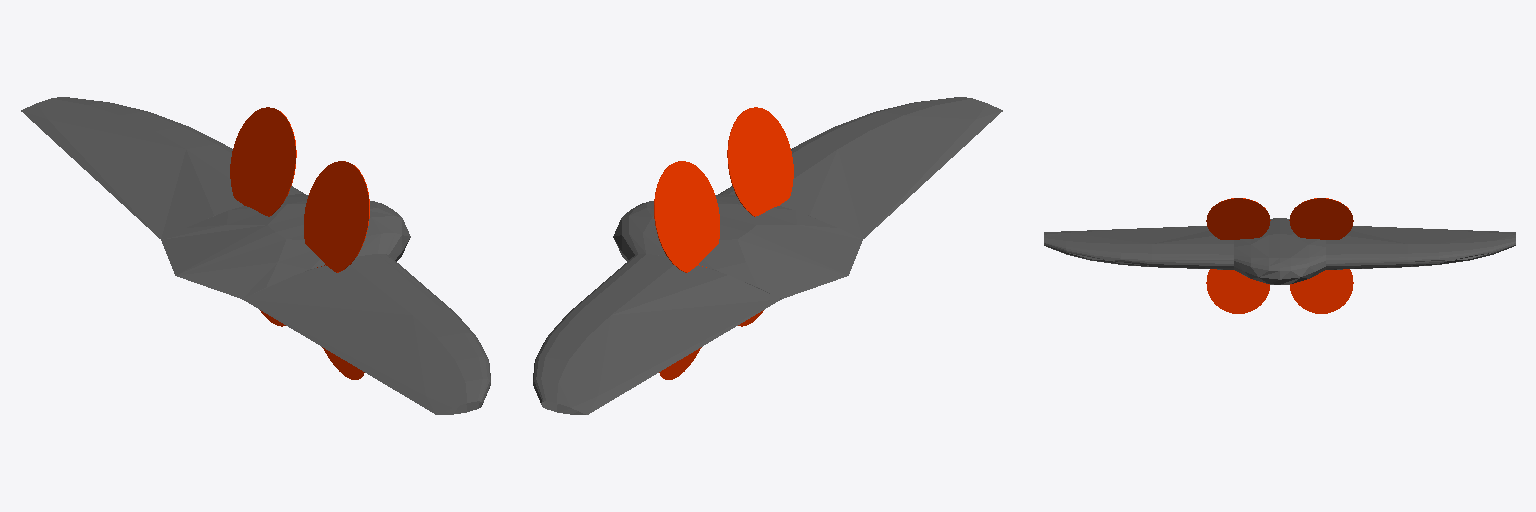
The robot description file, URDF, robot "Falcon":
<?xml version="1.0" ?>

<robot name="Falcon">

  <material name="white">
    <color rgba="1. 1. 1. 1.0"/>
  </material>

  <material name="black">
    <color rgba="0. 0. 0. 1.0"/>
  </material>

  <material name="blue0">
    <color rgba="15./255. 141./255. 238./255. 1.0"/>
  </material>

  <material name="darkgrey">
    <color rgba="0.4 0.4 0.4 1.0"/>
  </material>

  <material name="blue1">
    <color rgba="0.06 0.46 0.9 0.6"/>
  </material>

  <material name="orange_red">
    <color rgba="1 0.25 0 0.4"/>
  </material>

  <configuration type="winged_vtol_physics"/>


  <properties arm="0.0" kf="0" km="0" thrust2weight="0" max_speed_kmh="0" gnd_eff_coeff="0" prop_radius="3.31348e-2" drag_coeff_xy="0" drag_coeff_z="0" dw_coeff_1="0" dw_coeff_2="0" dw_coeff_3="0"/>

  <control>
     <indi actuator_nr="4" output_nr="4" />
    <indi_1 roll="    -200. 200. 200. -200." />
    <indi_2 pitch="  200.  -200. 200. -200." />
    <indi_3 yaw="    450. 450. -450. -450." />
    <indi_4 thrust=" 50 50 50 50" />

    <indi_guidance_gains>
      <pos kp="2.5" kd="3"/>
    </indi_guidance_gains>

    <indi_att_gains>
      <att  p="6" q="6." r="4" />
      <rate p="10." q="12" r="10." />
    </indi_att_gains>

    <pwm>
      <pwm2rpm scale="0. 0. 0. 0." const="0. 0. 0. 0." />
      <limit min="0.  0.  0.  0" max="1.  1.  1.  1." />
    </pwm>
  </control>

   <aero_coeffs>
    <ref rho="1.225" alpha0="0.47" Sref="0.075" Bref="0.7" Cref="0.105" Vref="18." oswald="0.9" AR="6.5" M="60" epsilon="0.16" actuator_nr="4"/>
    <CL  CL = "0.5" CL0="0.48115"   CL_alpha="4.28" CL_q="6.689983"   CL_del_e="0"/>
    <CD  CD = "0.06130" CD0="0.06130"  CD_alpha="0"  CD_q="0.0" CD_p="0.0" CD_del_e="0"/>
    <CY  CY0="0.0"   CY_beta="-0.049996"  CY_p="0.088261" CY_r="-0.009328"  CY_del_r="0" CY_del_a="0"/>
    <Cl  Cl_beta="-0.047674"  Cl_p="-0.443968" Cl_r="0.119986" Cl_del_a="0" Cl_del_r="0"/>
    <Cm  Cm0="-0.11072" Cm_alpha="-1.042060" Cm_q="-2.406242" Cm_del_e="-0"/>
    <Cn  Cn_beta="0.005068"  Cn_p="-0.034716" Cn_r="-0.004010" Cn_del_a="0.0" Cn_del_r="0."/>
  </aero_coeffs>

  <motor_coeffs>
    <Thrust angle_deg = "20" x_pos = "0" y_pos = "0." z_pos = "0.1"/>
    <Coeffs C_Q0 = "0." C_Q1 = "0." C_Q2 = "0." KQ = "0." R_motor = "0." i0 = "0." KV = "0.0" C_T0 = "-0.1" C_T1 = "-0.0" C_T2 = "0.0" V_max="0." />
    <Prop D_prop = "0.508"/>
  </motor_coeffs>


  <link name="base_link">
    <inertial>
      <origin rpy="0 0 0" xyz="0.032 0. 0"/>
      <mass value="0.728"/>
      <inertia ixx="0.0061" iyy="0.0010" izz="0.0058"/>
    </inertial>

    <visual>
      <origin rpy="0 0. 0" xyz="0.032 0. 0.0"/>
      <geometry>
        <mesh filename="./Falcon.obj" scale="1. 1. 1."/>
      </geometry>
      <material name="darkgrey"/>
    </visual>

    <collision>
      <origin rpy="0 0 0" xyz="0.032 0. 0"/>
      <geometry>
        <cylinder radius="0.15" length=".1"/>
        <mesh filename="./Falcon.obj" scale="1. 1. 1."/>
      </geometry>
    </collision>
  </link>

  <link name="center_of_mass_link">
    <inertial>
      <origin rpy="0 0 0" xyz="0.032 0. 0.0"/>
      <mass value="0"/>
      <inertia ixx="0" ixy="0" ixz="0" iyy="0" iyz="0" izz="0"/>
    </inertial>
  </link>
  <joint name="center_of_mass_joint" type="fixed">
    <parent link="base_link"/>
    <child link="center_of_mass_link"/>
  </joint>

  <link name="UR_link">
    <inertial>
      <origin rpy="0 0.35 0" xyz="0.02 -0.0906 0.075"/>
      <mass value="0"/>
      <inertia ixx="0" ixy="0" ixz="0" iyy="0" iyz="0" izz="0"/>
    </inertial>
    <visual>
      <origin rpy="0 1.92 0" xyz="0.02 -0.0906 0.075"/>
      <geometry>
        <cylinder radius="0.07" length=".001"/>
      </geometry>
      <material name="orange_red"/>
    </visual>
  </link>
  <joint name="UR_joint" type="fixed">
    <parent link="base_link"/>
    <child link="UR_link"/>
  </joint>

  <link name="LR_link">
    <inertial>
      <origin rpy="0 -0.35 0" xyz="0.02 -0.0906 -0.075"/>
      <mass value="0"/>
      <inertia ixx="0" ixy="0" ixz="0" iyy="0" iyz="0" izz="0"/>
    </inertial>
    <visual>
      <origin rpy="0 1.40 0" xyz="0.02 -0.0906 -0.075"/>
      <geometry>
        <cylinder radius="0.07" length=".001"/>
      </geometry>
      <material name="orange_red"/>
    </visual>
  </link>
  <joint name="LR_joint" type="fixed">
    <parent link="base_link"/>
    <child link="LR_link"/>
  </joint>

  <link name="UL_link">
    <inertial>
      <origin rpy="0 0.35 0" xyz="0.02 0.0906 0.075"/>
      <mass value="0"/>
      <inertia ixx="0" ixy="0" ixz="0" iyy="0" iyz="0" izz="0"/>
    </inertial>
    <visual>
      <origin rpy="0 1.92 0" xyz="0.02 0.0906 0.075"/>
      <geometry>
        <cylinder radius="0.07" length=".001"/>
      </geometry>
      <material name="orange_red"/>
    </visual>
  </link>
  <joint name="UL_joint" type="fixed">
    <parent link="base_link"/>
    <child link="UL_link"/>
  </joint>

  <link name="LL_link">
    <inertial>
      <origin rpy="0 -0.35 0" xyz="0.02 0.0906 -0.075"/>
      <mass value="0"/>
      <inertia ixx="0" ixy="0" ixz="0" iyy="0" iyz="0" izz="0"/>
    </inertial>
    <visual>
      <origin rpy="0 1.40 0" xyz="0.02 0.0906 -0.075"/>
      <geometry>
        <cylinder radius="0.07" length=".001"/>
      </geometry>
      <material name="orange_red"/>
    </visual>
  </link>
  <joint name="LL_joint" type="fixed">
    <parent link="base_link"/>
    <child link="LL_link"/>
  </joint>

</robot>

--- What the picture shows (computed from the rendered views, not written in the file) ---
The picture shows the robot from 3 angles, left to right: view 1: azimuth 30°, elevation 25°; view 2: azimuth 150°, elevation 25°; view 3: azimuth 270°, elevation 25°; orthographic projection.
Model Falcon with 6 links and 5 joints (5 fixed), rooted at base_link, posed every joint at zero.
Visible links, largest first — view 1: base_link, UR_link, UL_link; view 2: base_link, UL_link, UR_link; view 3: base_link, UR_link, UL_link, LR_link, LL_link.
Boxes of the visible links, box(x1,y1,x2,y2) form: base_link: box(21, 97, 490, 414); UR_link: box(304, 161, 369, 272); UL_link: box(230, 107, 296, 216); base_link: box(533, 97, 1002, 414); UL_link: box(654, 161, 719, 272); UR_link: box(727, 107, 793, 216); base_link: box(1044, 218, 1515, 284); UR_link: box(1206, 198, 1270, 239); UL_link: box(1289, 198, 1353, 239); LR_link: box(1206, 269, 1269, 313); LL_link: box(1290, 269, 1353, 313).
Bounding box of the posed robot: 0.3215 × 1.03 × 0.285 m (x, y, z).
Meshes: 1 distinct files referenced, 1 mesh visuals loaded (1 OBJ).